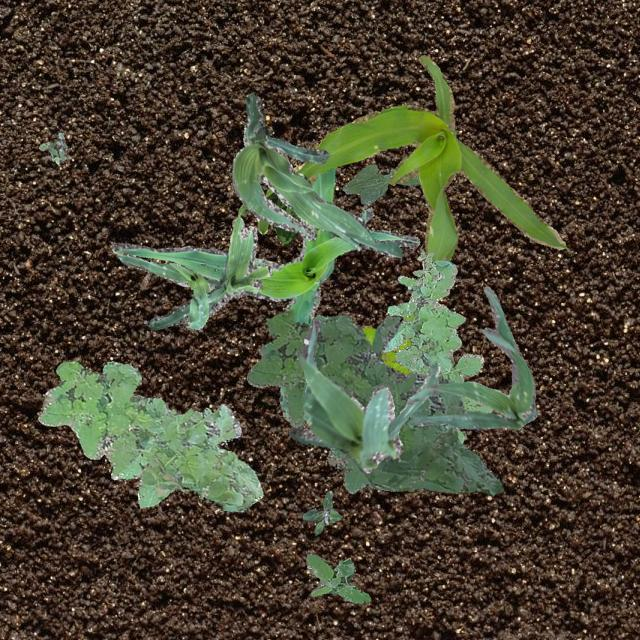crop: (256, 55, 566, 322), (112, 167, 418, 420), (230, 91, 400, 256), (287, 318, 438, 472), (406, 286, 536, 428), (146, 214, 272, 328), (116, 252, 218, 328), (342, 164, 419, 202)
weed: (246, 308, 502, 494), (38, 360, 262, 510), (382, 260, 492, 442), (238, 190, 300, 246), (306, 552, 370, 602), (362, 324, 412, 374), (302, 489, 341, 534), (412, 250, 441, 286), (38, 132, 66, 164)
